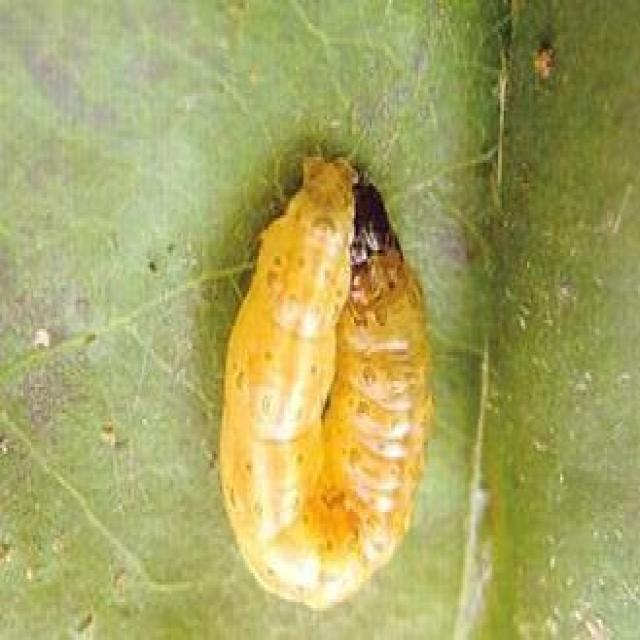peach borer: (213, 149, 443, 609)
